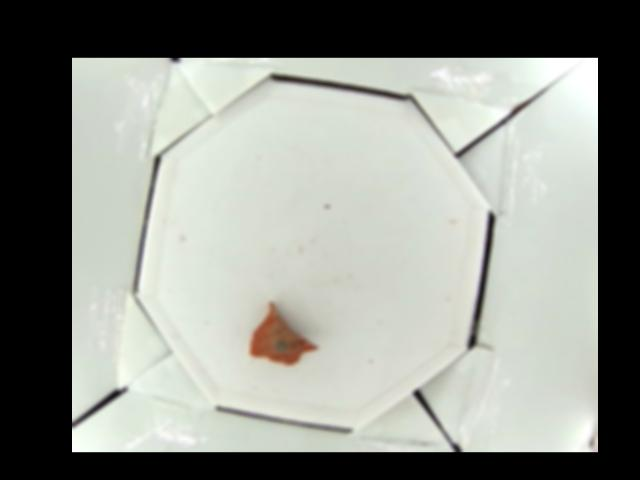Brisk: (248, 301, 316, 363)
